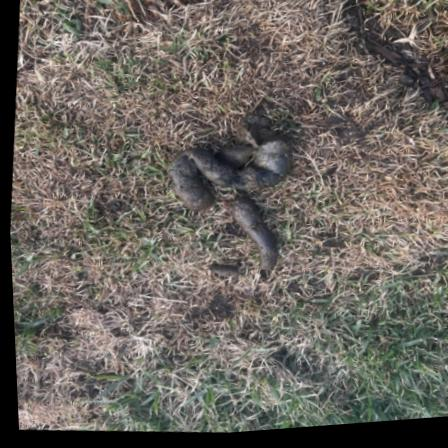dog-poop: (160, 116, 302, 296)
